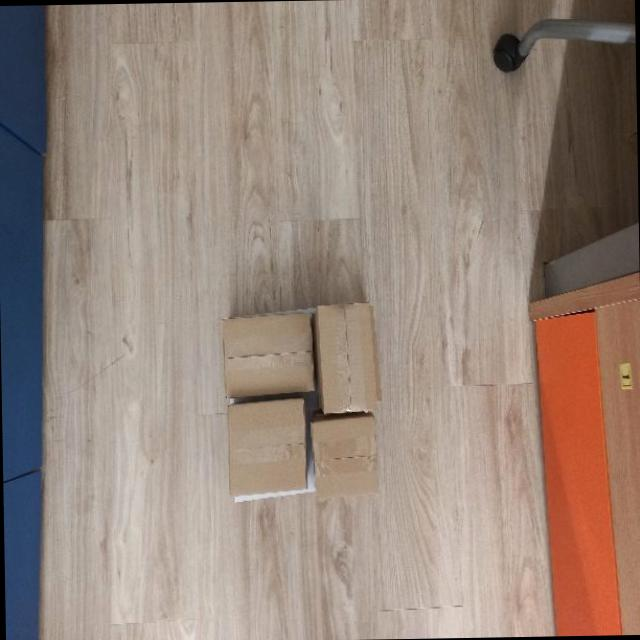box: (225, 395, 308, 498), (218, 314, 318, 399), (312, 300, 384, 416), (308, 413, 382, 499)
